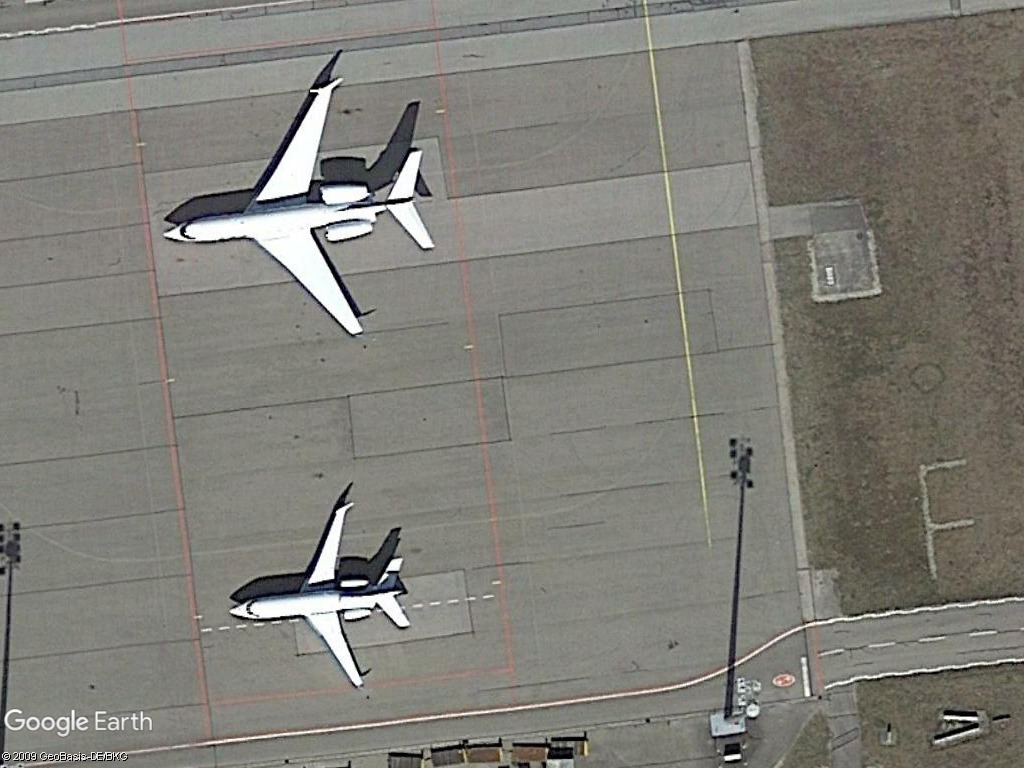chartered: (143, 74, 450, 338), (219, 499, 424, 689)
